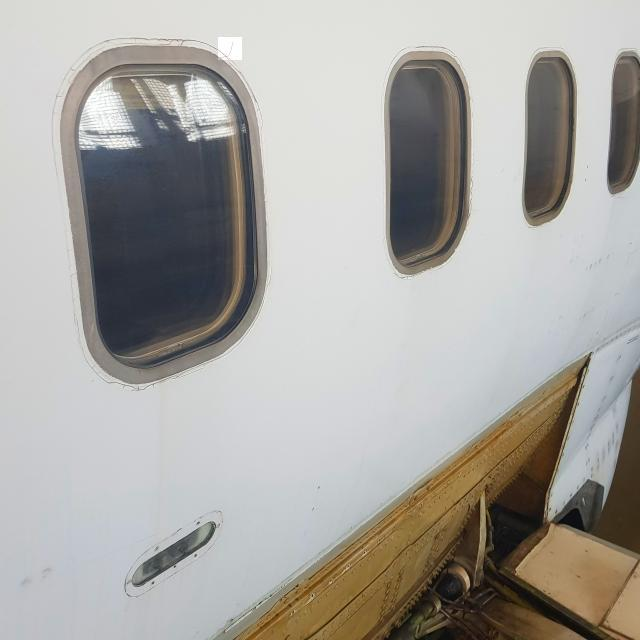crack: (219, 38, 243, 61)
